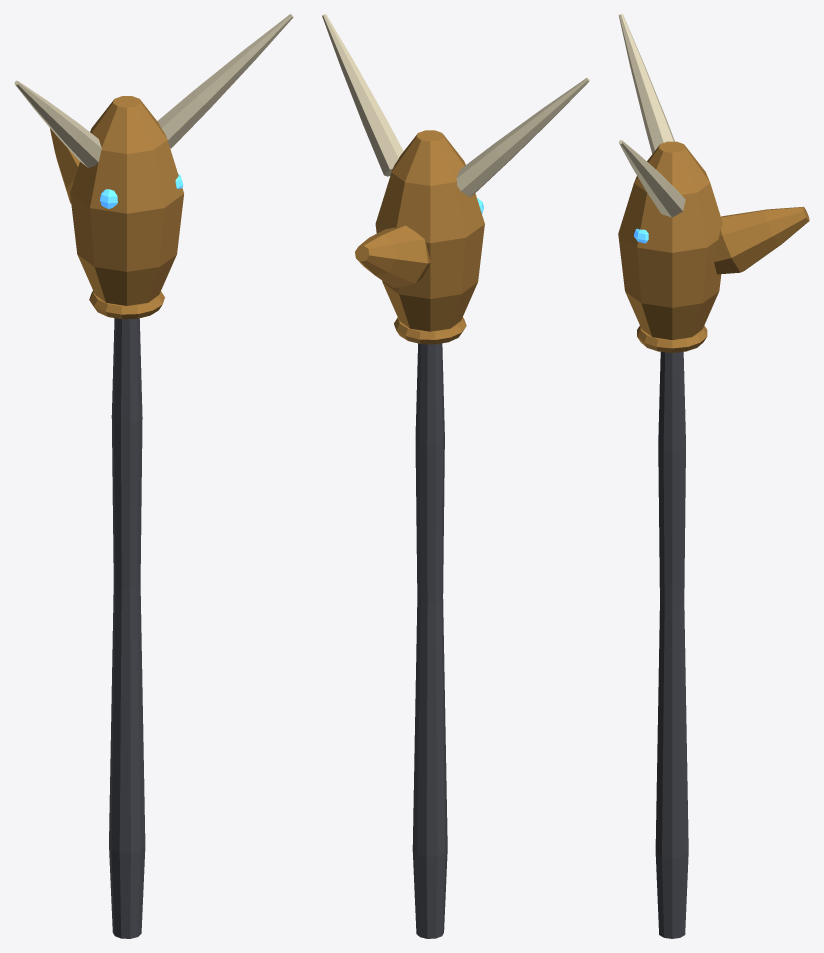
The model's file is staff_beast.glb.
3 renders of one model, left to right at view 1: azimuth 30°, elevation 25°; view 2: azimuth 150°, elevation 25°; view 3: azimuth 270°, elevation 25°, orthographic. The views are drawn at different scales.
Visible parts, largest first — view 1: Beast_Shaft, Beast_Skull, Beast_Horn1, Beast_Horn0, Beast_Collar, Beast_Snout; view 2: Beast_Shaft, Beast_Skull, Beast_Snout, Beast_Horn0, Beast_Horn1, Beast_Collar; view 3: Beast_Shaft, Beast_Skull, Beast_Snout, Beast_Horn0, Beast_Horn1, Beast_Collar.
Part boxes in pixels (x1,y1,x2,y2): Beast_Shaft: [109, 318, 145, 938]; Beast_Skull: [70, 96, 184, 305]; Beast_Horn1: [157, 14, 293, 148]; Beast_Horn0: [14, 80, 101, 167]; Beast_Collar: [89, 291, 164, 319]; Beast_Snout: [50, 128, 79, 203]; Beast_Shaft: [412, 343, 447, 938]; Beast_Skull: [375, 130, 484, 331]; Beast_Snout: [355, 225, 430, 288]; Beast_Horn0: [456, 78, 589, 197]; Beast_Horn1: [322, 14, 403, 176]; Beast_Collar: [394, 317, 466, 344]; Beast_Shaft: [655, 352, 688, 938]; Beast_Skull: [618, 141, 722, 339]; Beast_Snout: [714, 206, 809, 274]; Beast_Horn0: [619, 14, 674, 153]; Beast_Horn1: [619, 140, 685, 217]; Beast_Collar: [637, 326, 707, 352].
Bounding box in the file's own units: 0.6663 × 2.07 × 0.4196.
